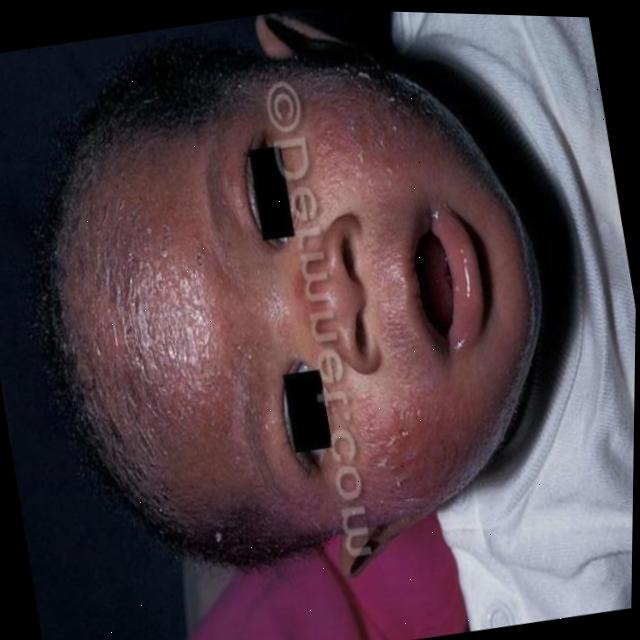Eczema: (84, 191, 242, 423), (363, 400, 453, 506), (318, 100, 404, 205)
